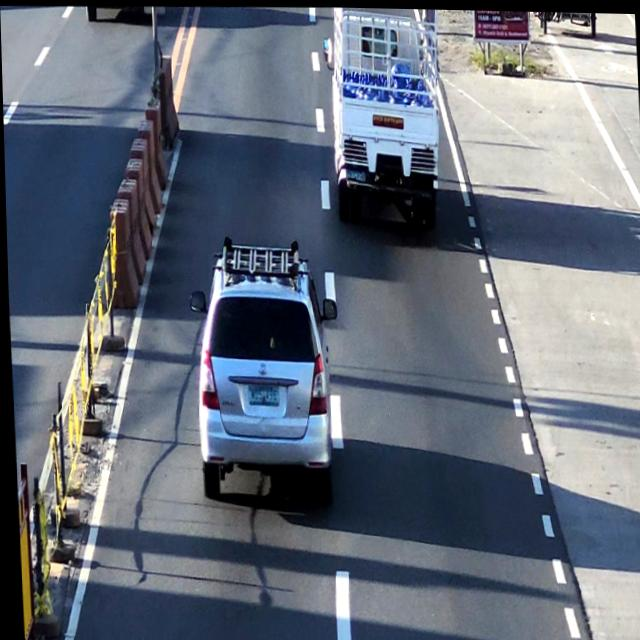Car: (187, 241, 332, 486)
License-Plate: (246, 385, 275, 407)
Truck: (326, 6, 437, 236)
